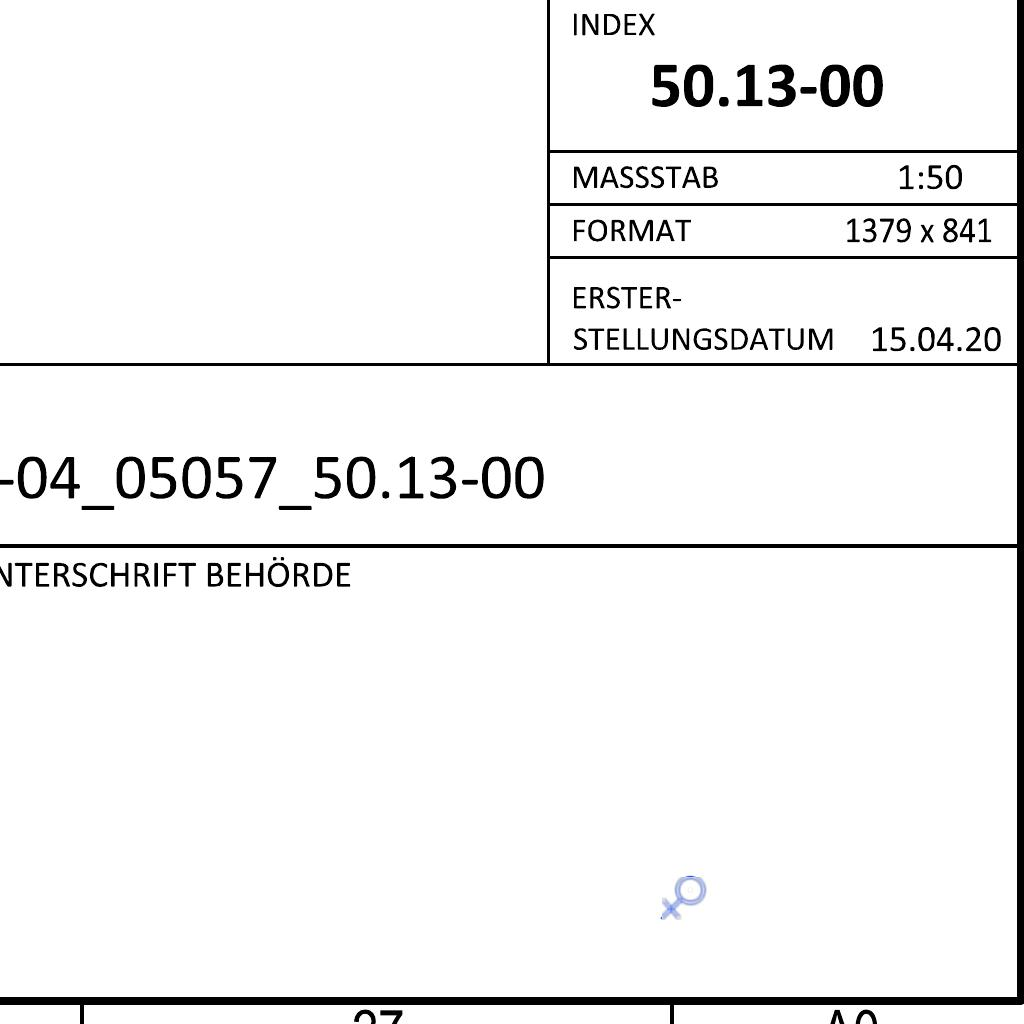Elektroanschluss_allgemein_230V_Geraeteanschlussdose_230V: (660, 875, 709, 922)
